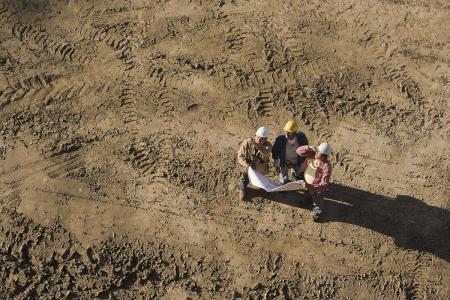helmet: (312, 141, 333, 161), (282, 121, 299, 141), (255, 126, 270, 145)
